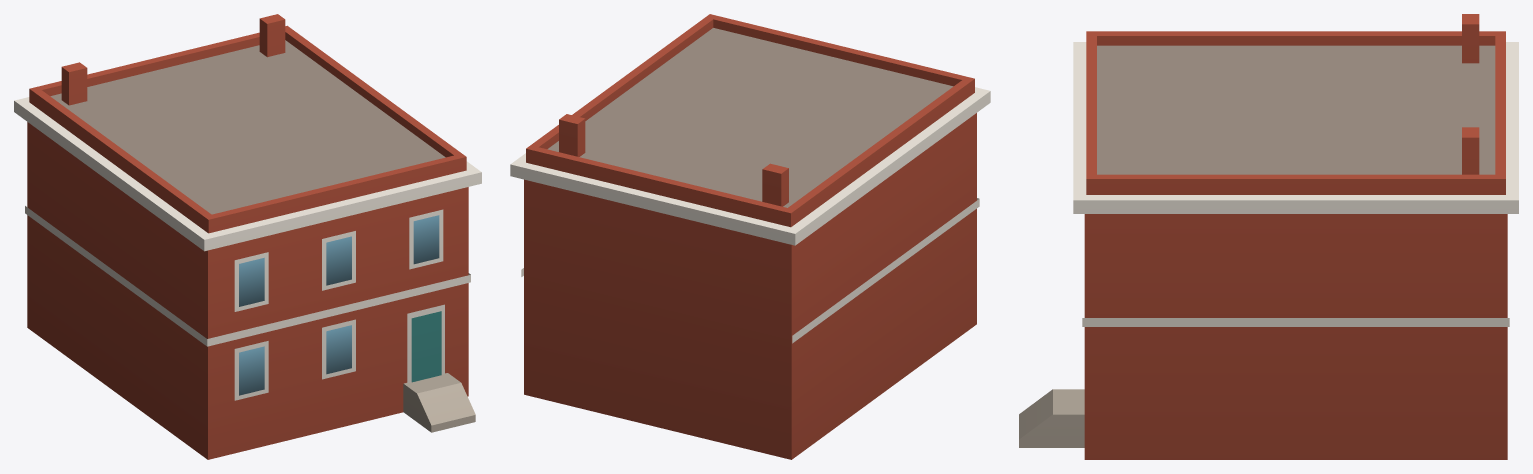
File: beacon_ne5_far.glb
3 renders of one model, left to right at view 1: azimuth 30°, elevation 25°; view 2: azimuth 150°, elevation 25°; view 3: azimuth 270°, elevation 25°, orthographic. The views are drawn at different scales.
Parts seen in each view (by area): view 1: beacon_ne5_far; view 2: beacon_ne5_far; view 3: beacon_ne5_far.
Boxes of the visible parts, x1,y1,x2,y2 form: beacon_ne5_far: [14, 14, 481, 459]; beacon_ne5_far: [510, 14, 990, 459]; beacon_ne5_far: [1019, 14, 1518, 459].
Bounding box in the file's own units: 10.64 × 9.69 × 14.18.
Materials: 1 (1 with a texture image).
